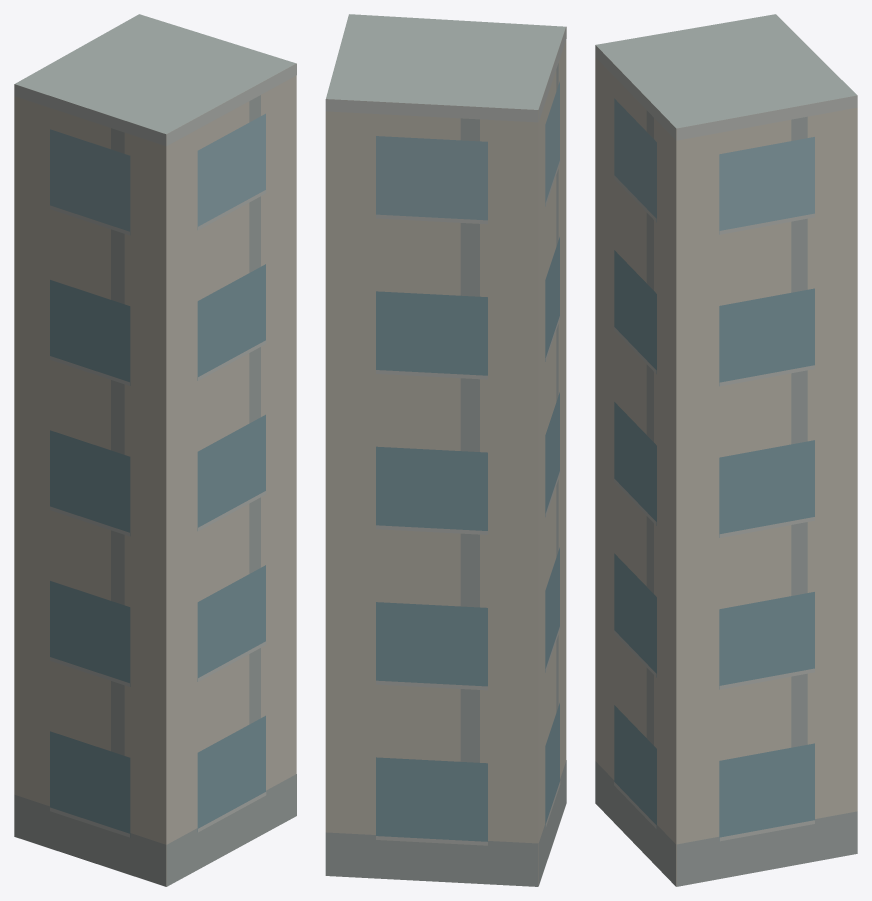
The model's file is survey-upis-32775116.glb.
The picture shows the model from 3 angles, left to right: view 1: azimuth 30°, elevation 25°; view 2: azimuth 150°, elevation 25°; view 3: azimuth 270°, elevation 25°; orthographic projection. The views are drawn at different scales.
Parts seen in each view (by area): view 1: survey-upis-32775116.tmp; view 2: survey-upis-32775116.tmp; view 3: survey-upis-32775116.tmp.
Boxes of the visible parts, x1,y1,x2,y2 form: survey-upis-32775116.tmp: (14, 14, 296, 886); survey-upis-32775116.tmp: (325, 14, 566, 886); survey-upis-32775116.tmp: (595, 14, 857, 886).
Bounding box in the file's own units: 4.95 × 15.25 × 4.79.
